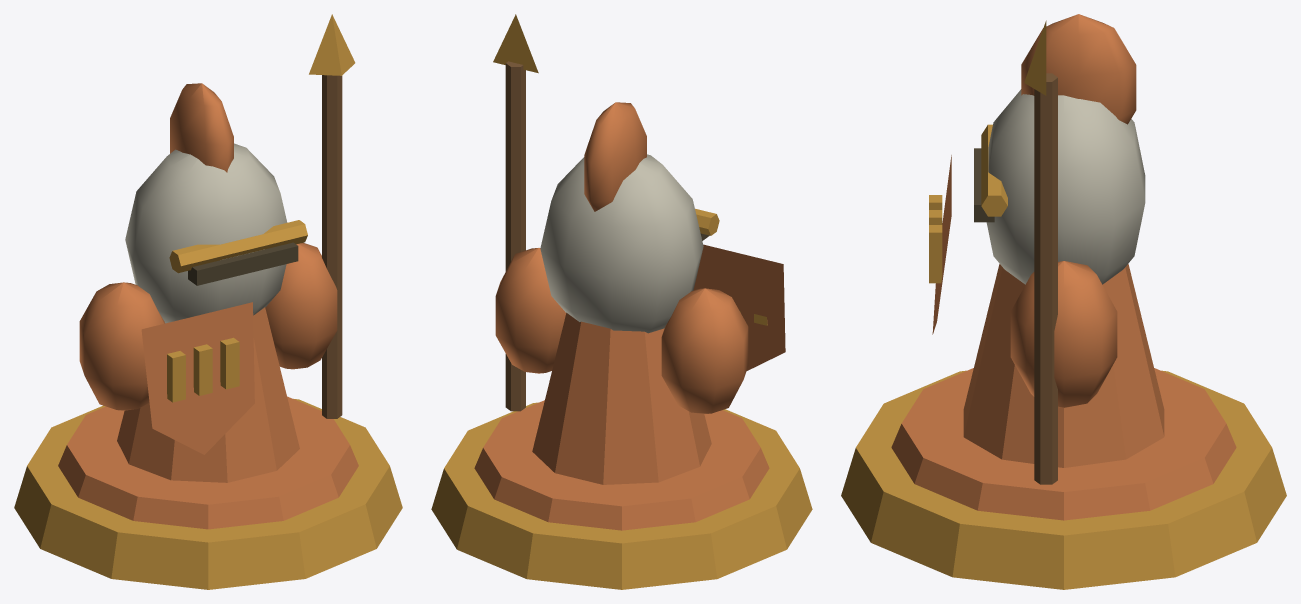
File: knight-3-1.glb
The picture shows the model from 3 angles, left to right: view 1: azimuth 30°, elevation 25°; view 2: azimuth 150°, elevation 25°; view 3: azimuth 270°, elevation 25°; orthographic projection. The views are drawn at different scales.
Visible parts, largest first — view 1: knight-3-1.001, knight-3-1, knight-3-1.002, knight-3-1.004, knight-3-1.003; view 2: knight-3-1.001, knight-3-1, knight-3-1.002, knight-3-1.004; view 3: knight-3-1.001, knight-3-1, knight-3-1.002, knight-3-1.004, knight-3-1.003.
Part boxes in pixels (x1,y1,x2,y2): knight-3-1.001: (58, 83, 358, 529); knight-3-1: (14, 14, 402, 589); knight-3-1.002: (125, 143, 287, 323); knight-3-1.004: (322, 75, 342, 418); knight-3-1.003: (188, 242, 298, 285); knight-3-1.001: (474, 102, 785, 530); knight-3-1: (431, 14, 812, 589); knight-3-1.002: (540, 154, 703, 333); knight-3-1.004: (505, 61, 525, 411); knight-3-1.001: (891, 14, 1236, 520); knight-3-1: (841, 20, 1286, 589); knight-3-1.002: (986, 89, 1145, 284); knight-3-1.004: (1034, 73, 1057, 484); knight-3-1.003: (974, 148, 994, 222).
Bounding box in the file's own units: 0.302 × 0.404 × 0.302.
